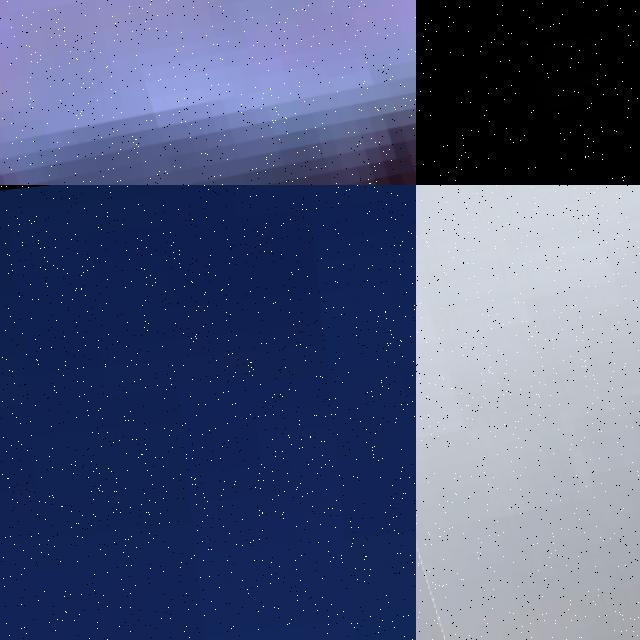0: (0, 0, 416, 185)
drone: (416, 185, 640, 640), (416, 0, 640, 185)
